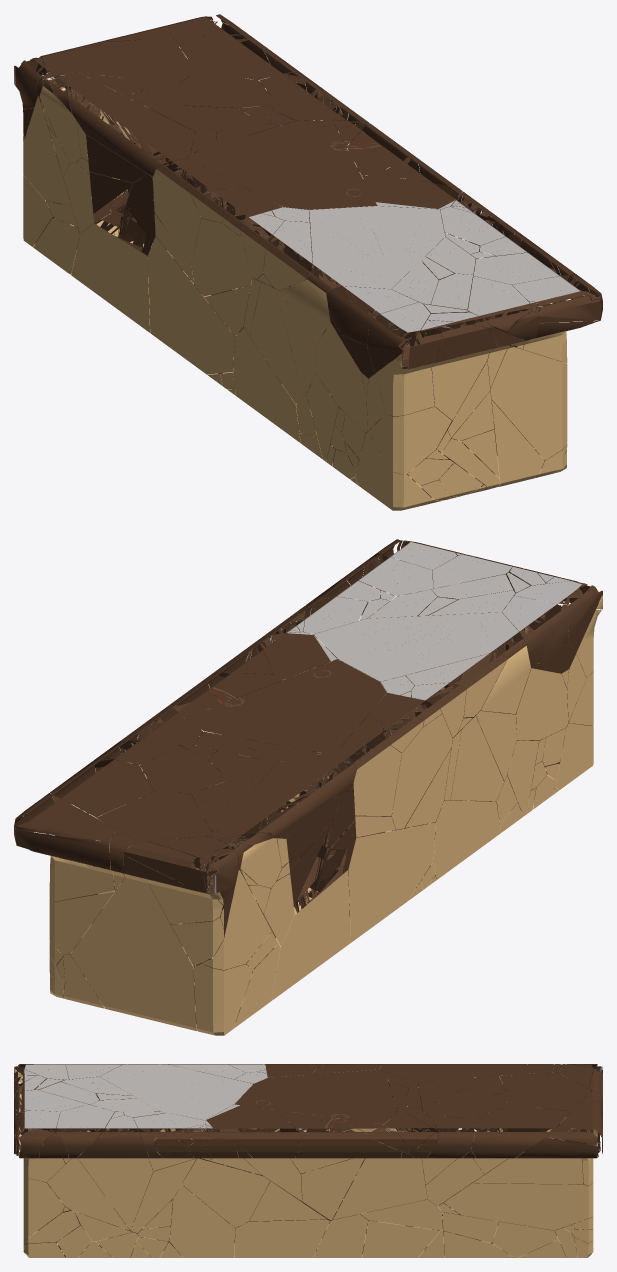
The model's file is counter.fbx.
The picture shows the model from 3 angles, top to bottom: view 1: azimuth 30°, elevation 25°; view 2: azimuth 150°, elevation 25°; view 3: azimuth 270°, elevation 25°; orthographic projection. The views are drawn at different scales.
Visible parts, largest first — view 1: Counter_cell.006, Counter_cell.002, Counter_cell.003, Counter_cell.008, Counter_cell.055_cell.004, Counter_cell.014, Counter_cell.045_cell.004, Counter_cell.036_cell.001, Counter_cell.041_cell.004, Counter_cell.045_cell.002, Counter_cell.007, Counter_cell.041_cell.006 (+58 smaller); view 2: Counter_cell, Counter_cell.006, Counter_cell.002, Counter_cell.003, Counter_cell.008, Counter_cell.014, Counter_cell.043_cell.004, Counter_cell.045_cell.004, Counter_cell.041_cell.004, Counter_cell.045_cell.002, Counter_cell.041_cell.006, Counter_cell.007 (+53 smaller); view 3: Counter_cell.002, Counter_cell.043_cell, Counter_cell.006, Counter_cell.035_cell.004, Counter_cell.041_cell.006, Counter_cell.056_cell, Counter_cell.043_cell.003, Counter_cell.046_cell.004, Counter_cell.046_cell.002, Counter_cell.046_cell.003, Counter_cell.035_cell.006, Counter_cell.008 (+64 smaller).
Boxes of the visible parts, x1,y1,x2,y2 form: Counter_cell.006: [280, 206, 445, 345]; Counter_cell.002: [183, 120, 376, 283]; Counter_cell.003: [148, 222, 263, 374]; Counter_cell.008: [65, 72, 197, 178]; Counter_cell.055_cell.004: [486, 346, 567, 460]; Counter_cell.014: [71, 193, 198, 332]; Counter_cell.045_cell.004: [153, 158, 245, 265]; Counter_cell.036_cell.001: [418, 320, 496, 420]; Counter_cell.041_cell.004: [78, 38, 196, 150]; Counter_cell.045_cell.002: [191, 207, 285, 300]; Counter_cell.007: [233, 328, 316, 442]; Counter_cell.041_cell.006: [173, 34, 306, 124]; Counter_cell: [70, 860, 211, 1030]; Counter_cell.006: [313, 612, 530, 732]; Counter_cell.002: [164, 659, 386, 840]; Counter_cell.003: [294, 793, 435, 942]; Counter_cell.008: [213, 752, 356, 840]; Counter_cell.014: [213, 863, 350, 999]; Counter_cell.043_cell.004: [15, 828, 114, 901]; Counter_cell.045_cell.004: [326, 716, 401, 818]; Counter_cell.041_cell.004: [96, 792, 240, 860]; Counter_cell.045_cell.002: [350, 707, 452, 829]; Counter_cell.041_cell.006: [50, 757, 163, 843]; Counter_cell.007: [412, 800, 500, 879]; Counter_cell.002: [235, 1069, 427, 1219]; Counter_cell.043_cell: [443, 1145, 593, 1230]; Counter_cell.006: [100, 1064, 257, 1146]; Counter_cell.035_cell.004: [78, 1115, 152, 1230]; Counter_cell.041_cell.006: [470, 1105, 571, 1174]; Counter_cell.056_cell: [282, 1111, 401, 1173]; Counter_cell.043_cell.003: [473, 1127, 597, 1184]; Counter_cell.046_cell.004: [182, 1128, 270, 1227]; Counter_cell.046_cell.002: [170, 1179, 238, 1257]; Counter_cell.046_cell.003: [234, 1213, 329, 1257]; Counter_cell.035_cell.006: [47, 1158, 129, 1230]; Counter_cell.008: [380, 1064, 555, 1103].
Size of the model in its own units: 115 by 95.15 by 378.
